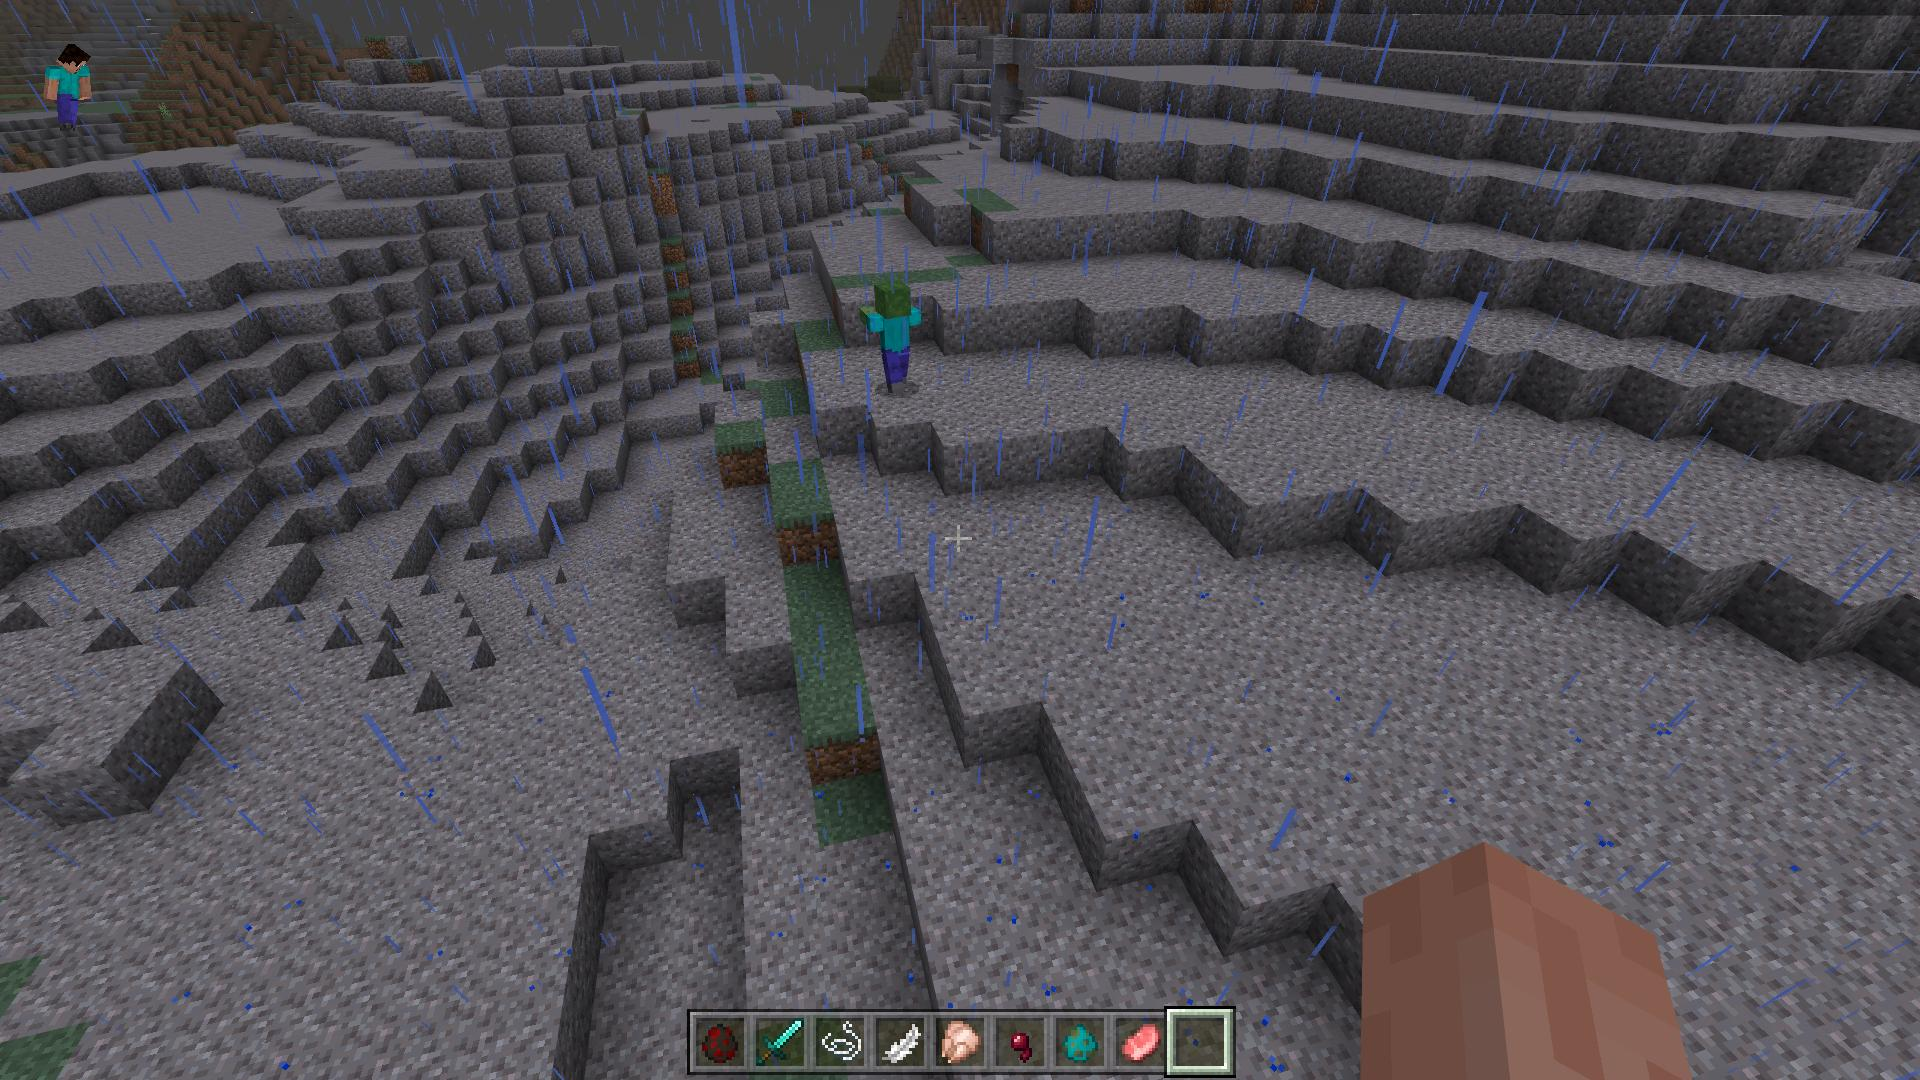zombie: (855, 280, 924, 393)
